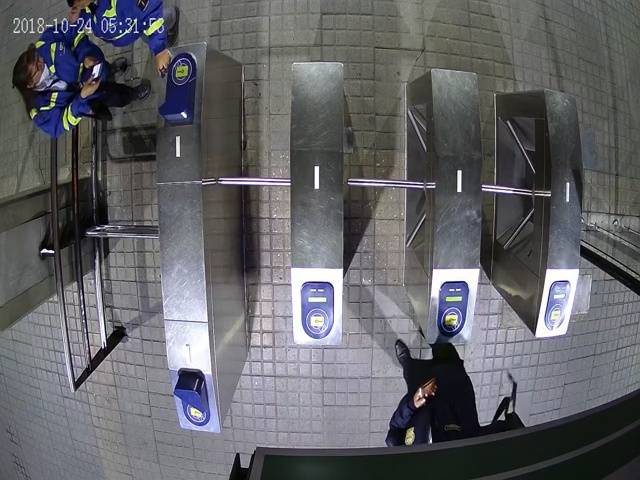Chaleco_azul: (11, 30, 153, 138), (67, 1, 178, 78)
